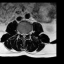CCS_normal: (22, 30, 24, 40)
LFS_normal: (26, 30, 29, 37)
LLS_normal: (24, 30, 26, 38)
RFS_normal: (19, 30, 21, 36)
RLS_normal: (20, 30, 22, 37)
